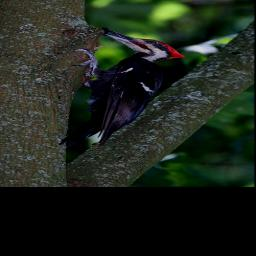Woodpecker: (59, 29, 186, 150)
